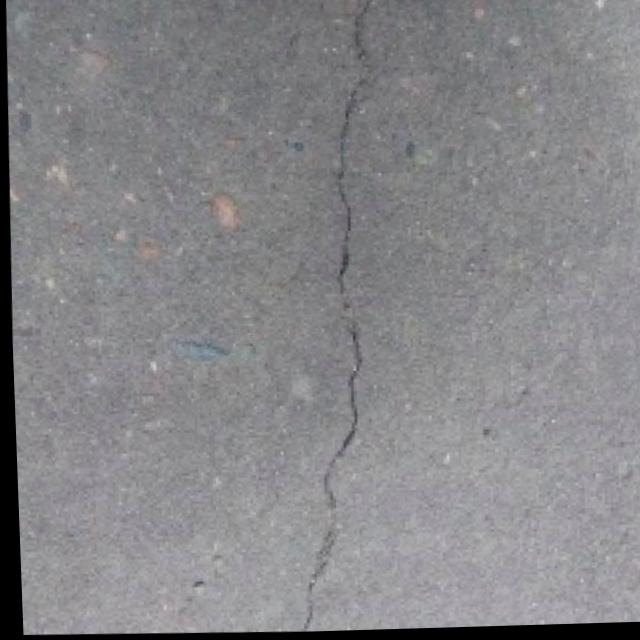Crack: (266, 0, 420, 634)
